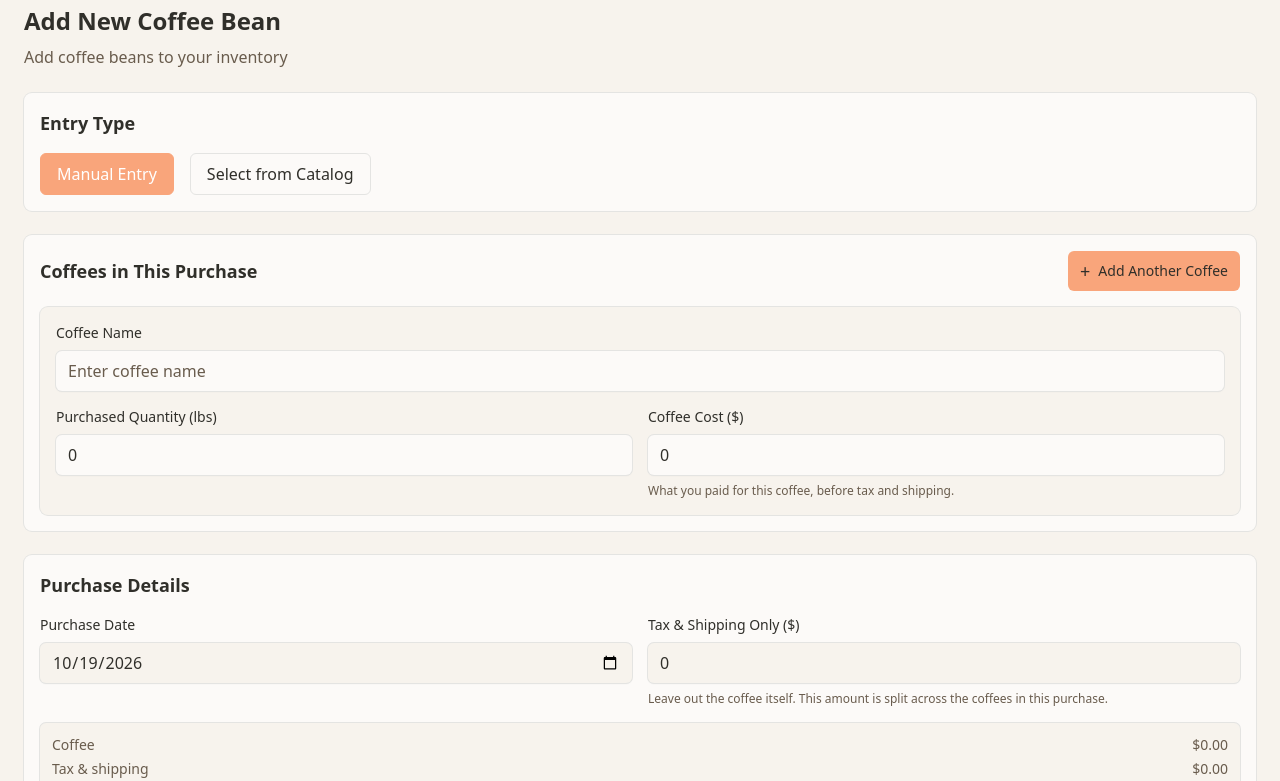
Scenario: BeanForm atomic manual inventory batches › labels tax and shipping apart from the coffee cost and totals the order
Step 1. Replace the text in the number field labelled "Coffee Cost ($)" with "42.5" → (936, 455), box top-left (648, 435), bottom-right (1224, 475)
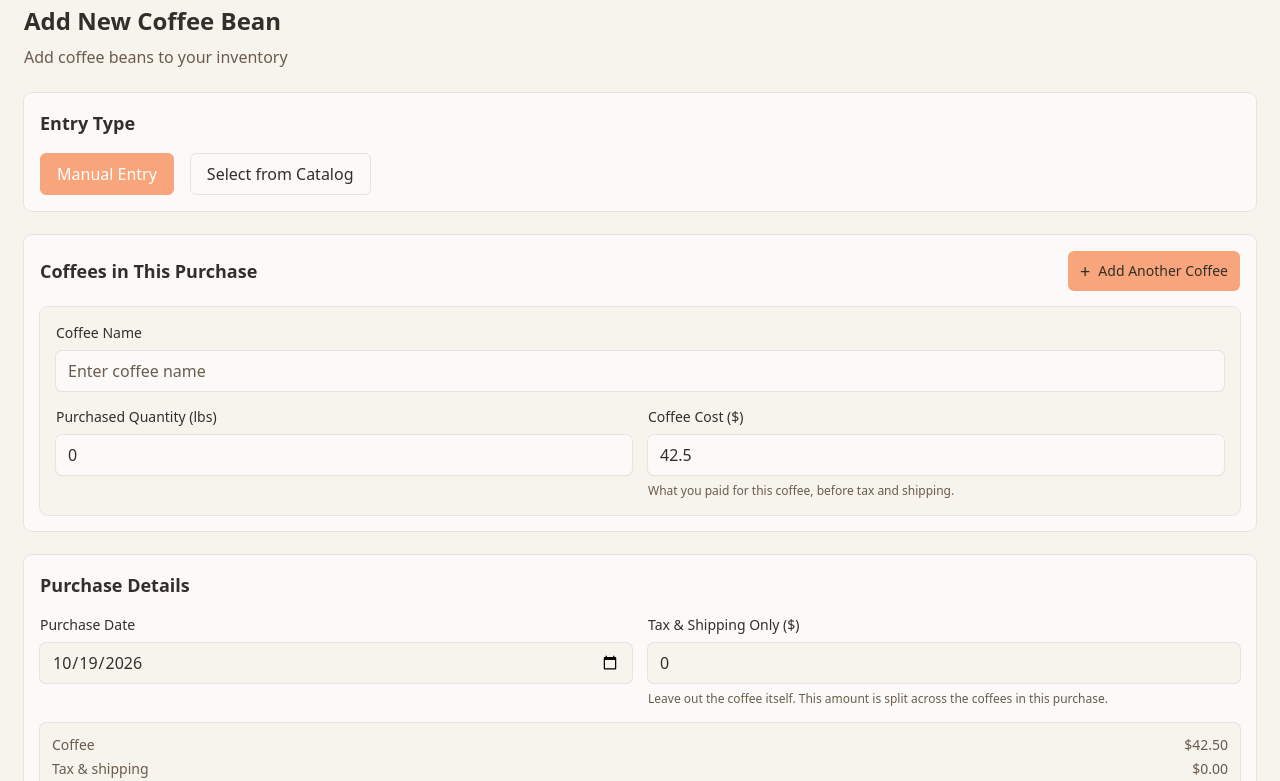
Step 2. Replace the text in the number field labelled "Tax & Shipping Only ($)" with "7.25" → (944, 663), box top-left (648, 643), bottom-right (1240, 683)
(page scrolled)
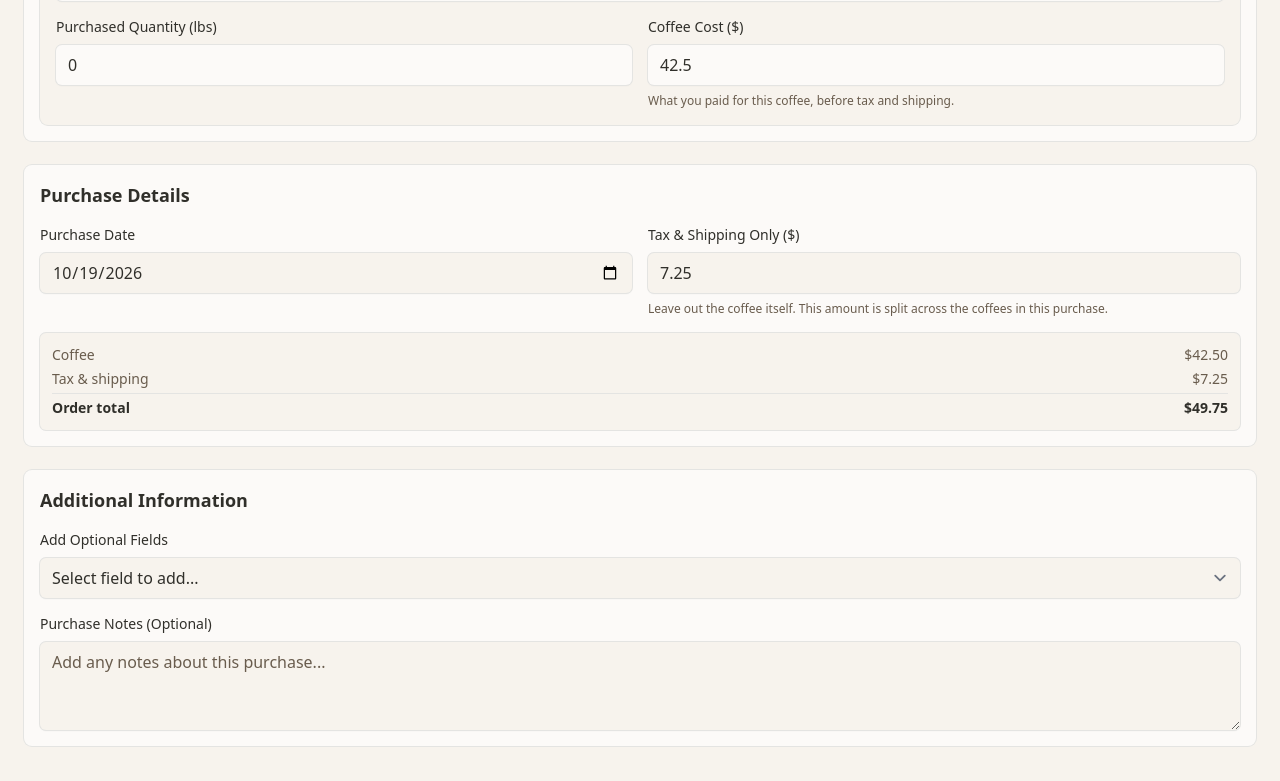
Expected: the element labelled "Order total" reads "Coffee $42.50 Tax & shipping $7.25 Order total $49.75", top-left (40, 333), bottom-right (1240, 430)
